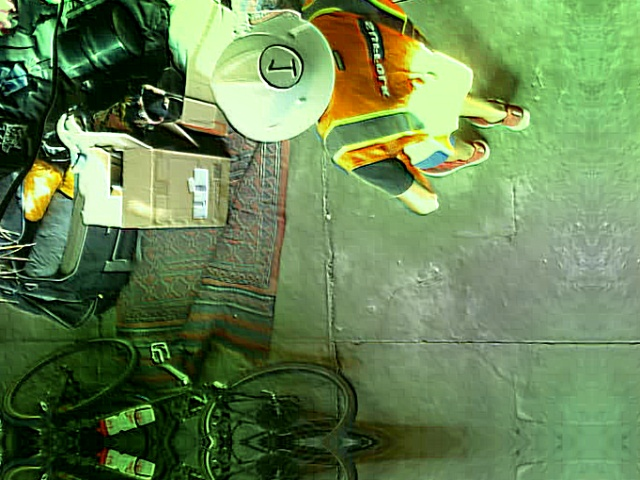one: (259, 44, 301, 87)
